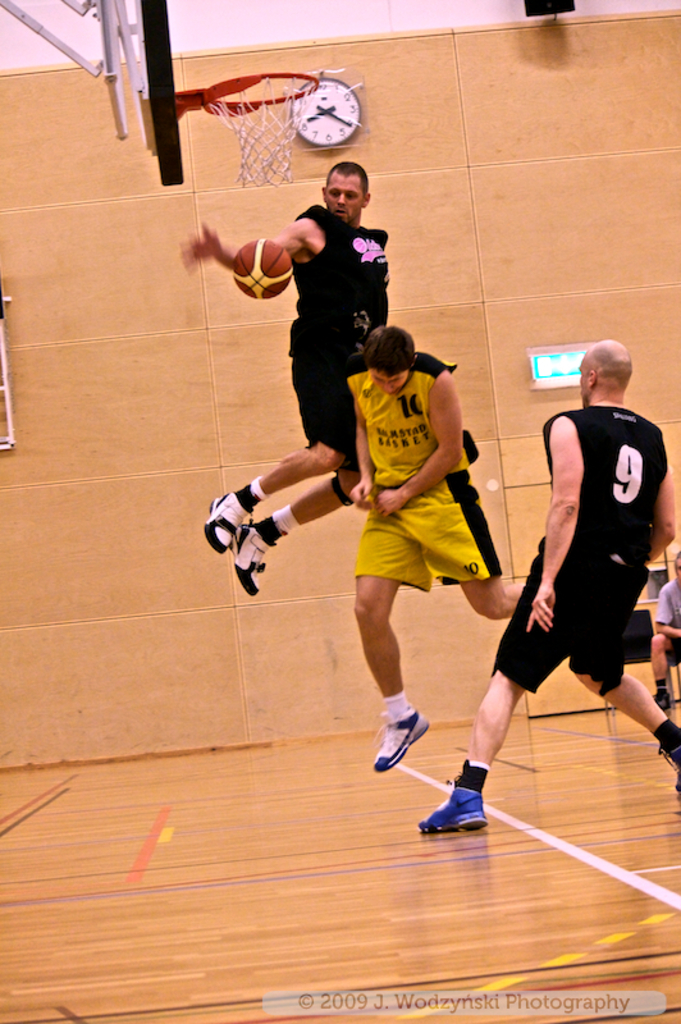Ball: (232, 236, 296, 302)
